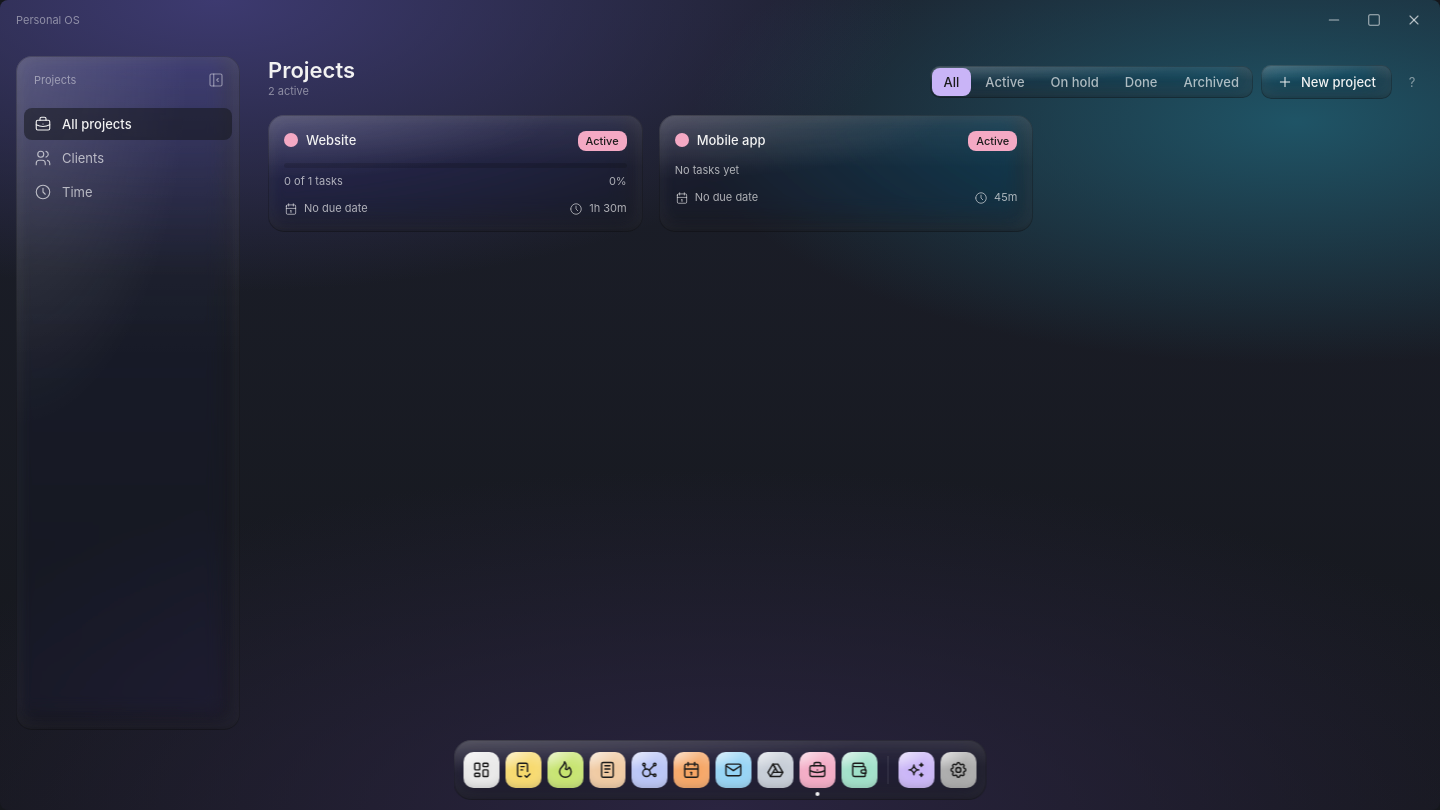
Time tab of a project › adds time by hand and rejects an end before the start
Click the button "Website" at [331, 140], box [306,131,570,150]
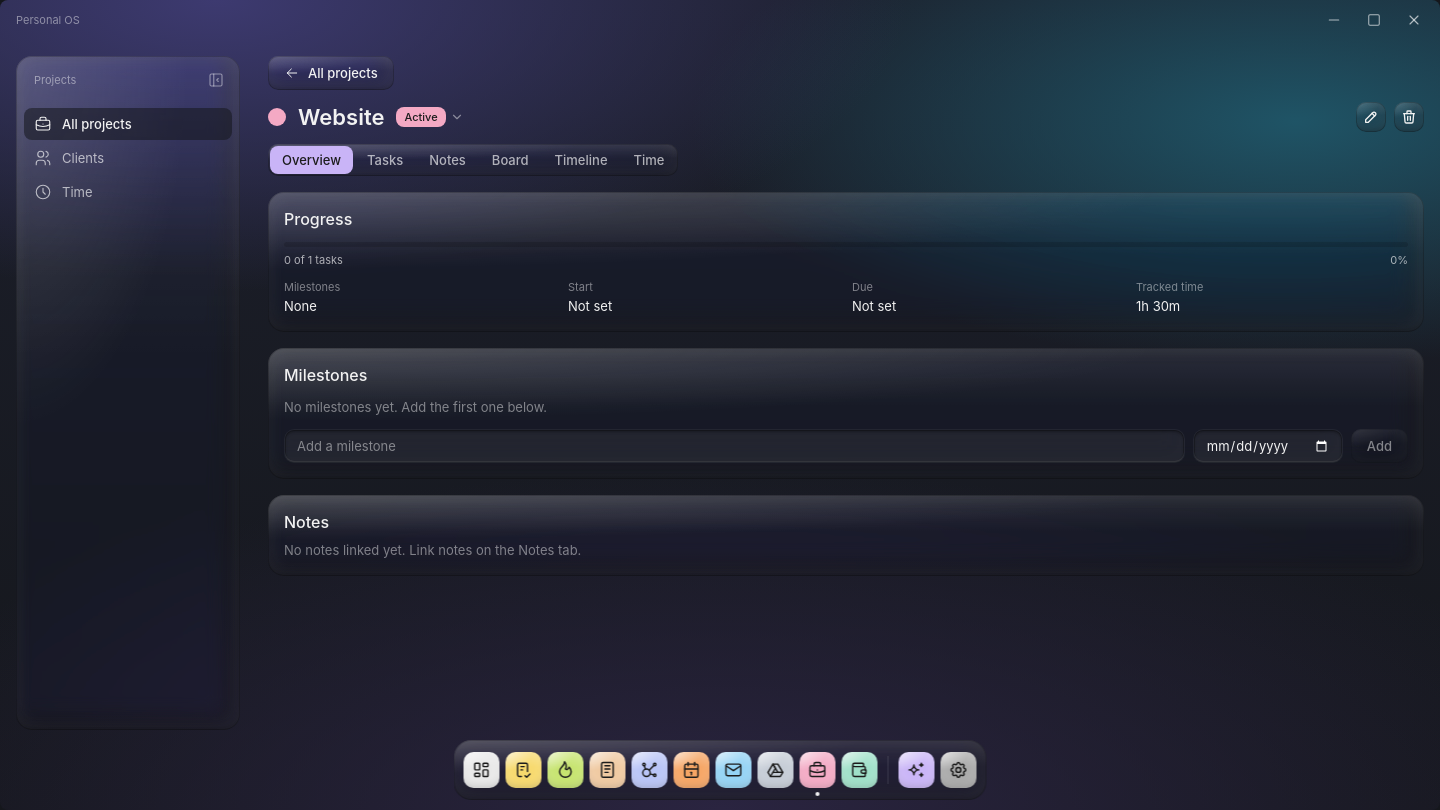
Expected: the heading "Website" is shown, [298,103,384,131]
Click the radio button labelled "Time" at [649, 160], box [622,146,676,174]
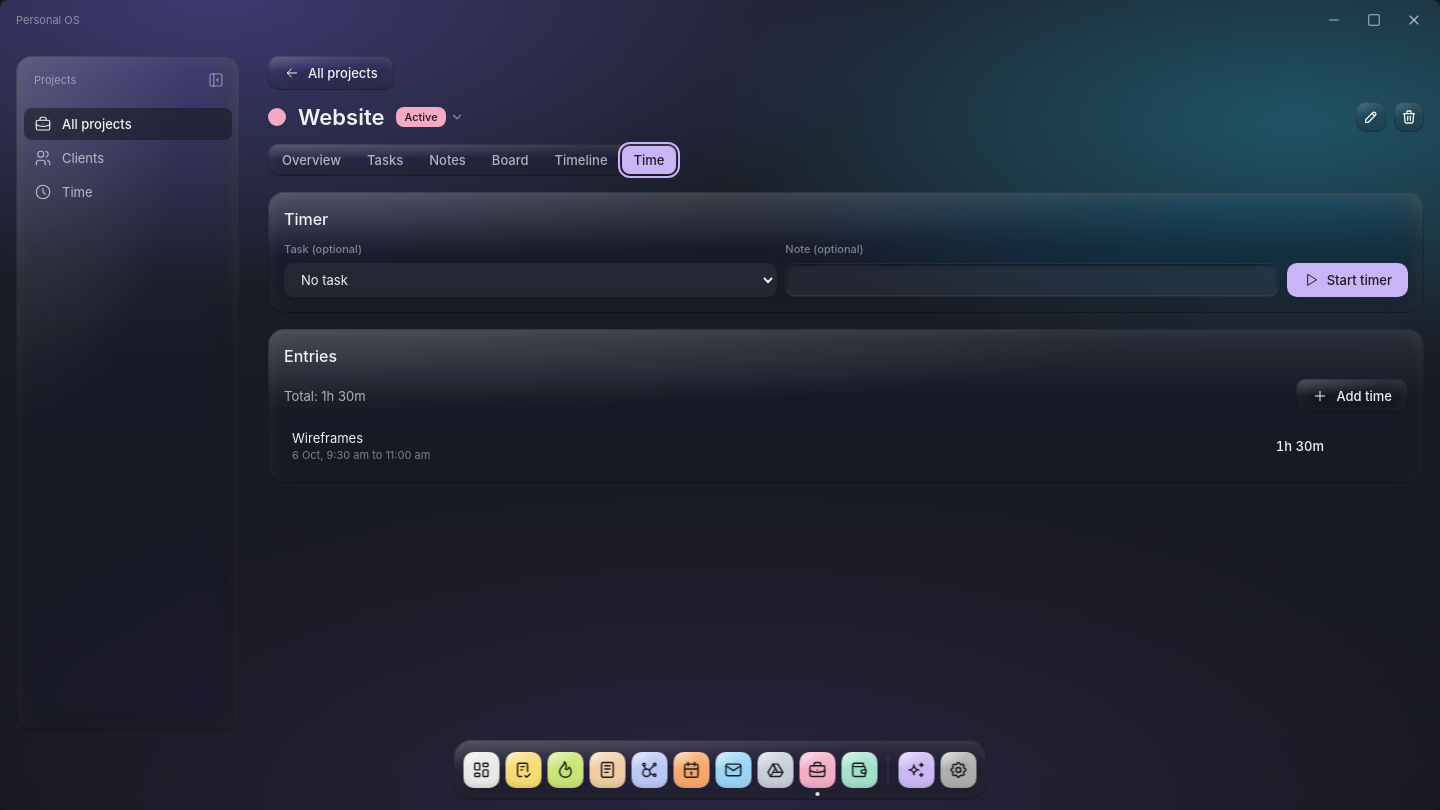
Click the button "Add time" at [1352, 396], box [1296,379,1408,413]
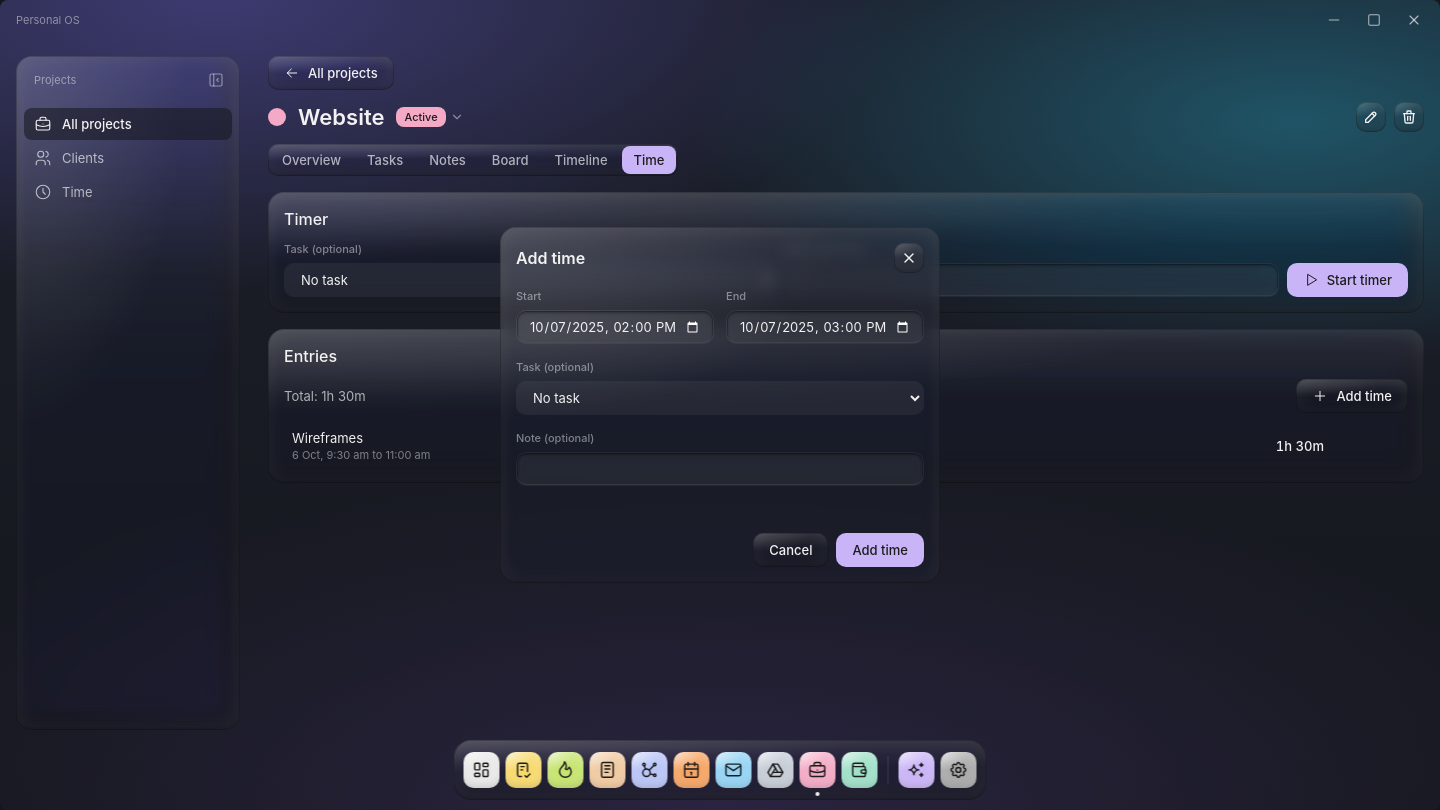
Replace the text in the field named "Start" with "2025-10-07T10:00" at [615, 327], box [516,310,714,344]
Replace the text in the field named "End" with "2025-10-07T09:00" at [825, 327], box [726,310,924,344]
Click the button "Add time" at [880, 550], box [836,533,924,567]
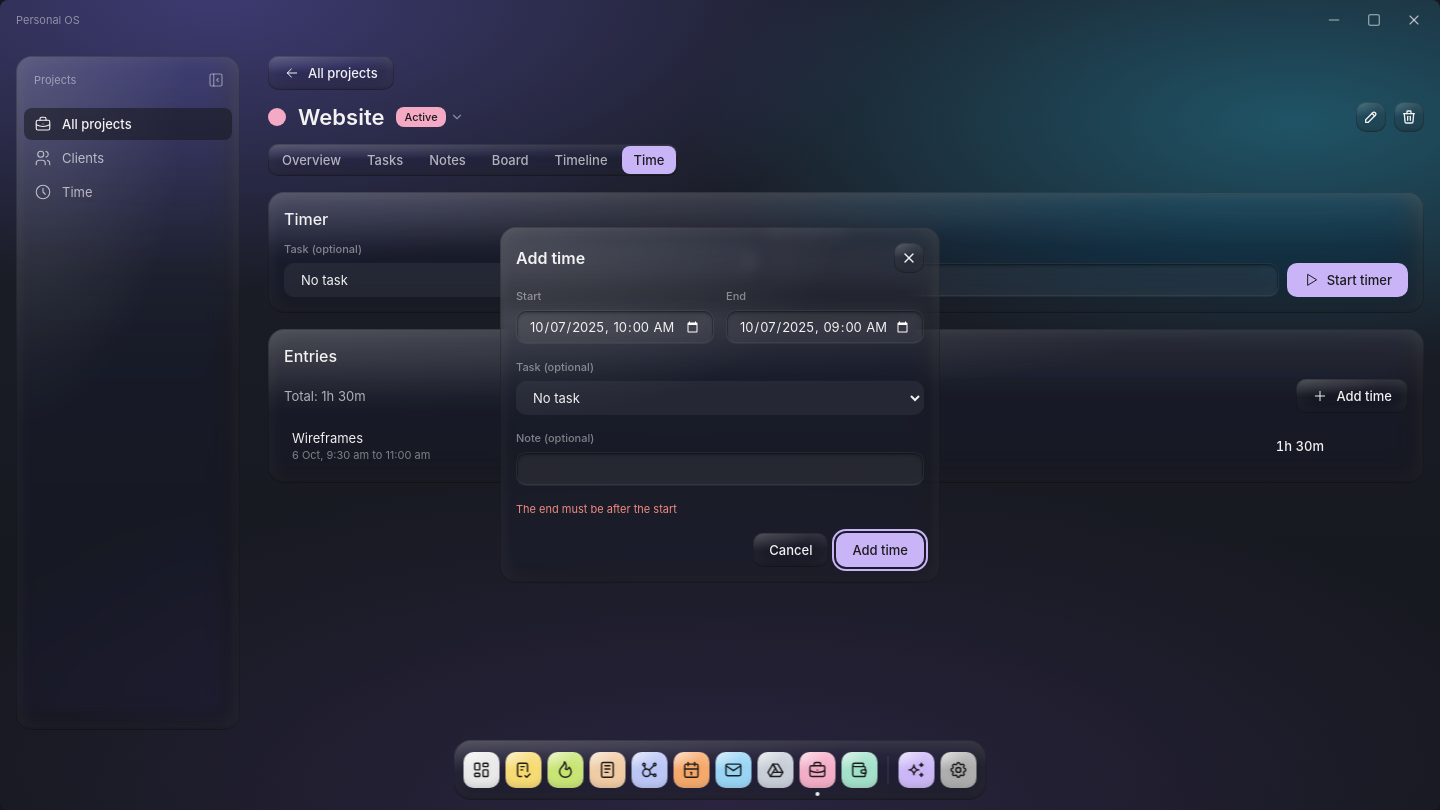
Result: the message reads "The end must be after the start" at [516,502,677,516]
Replace the text in the field named "End" with "2025-10-07T11:30" at [825, 327], box [726,310,924,344]
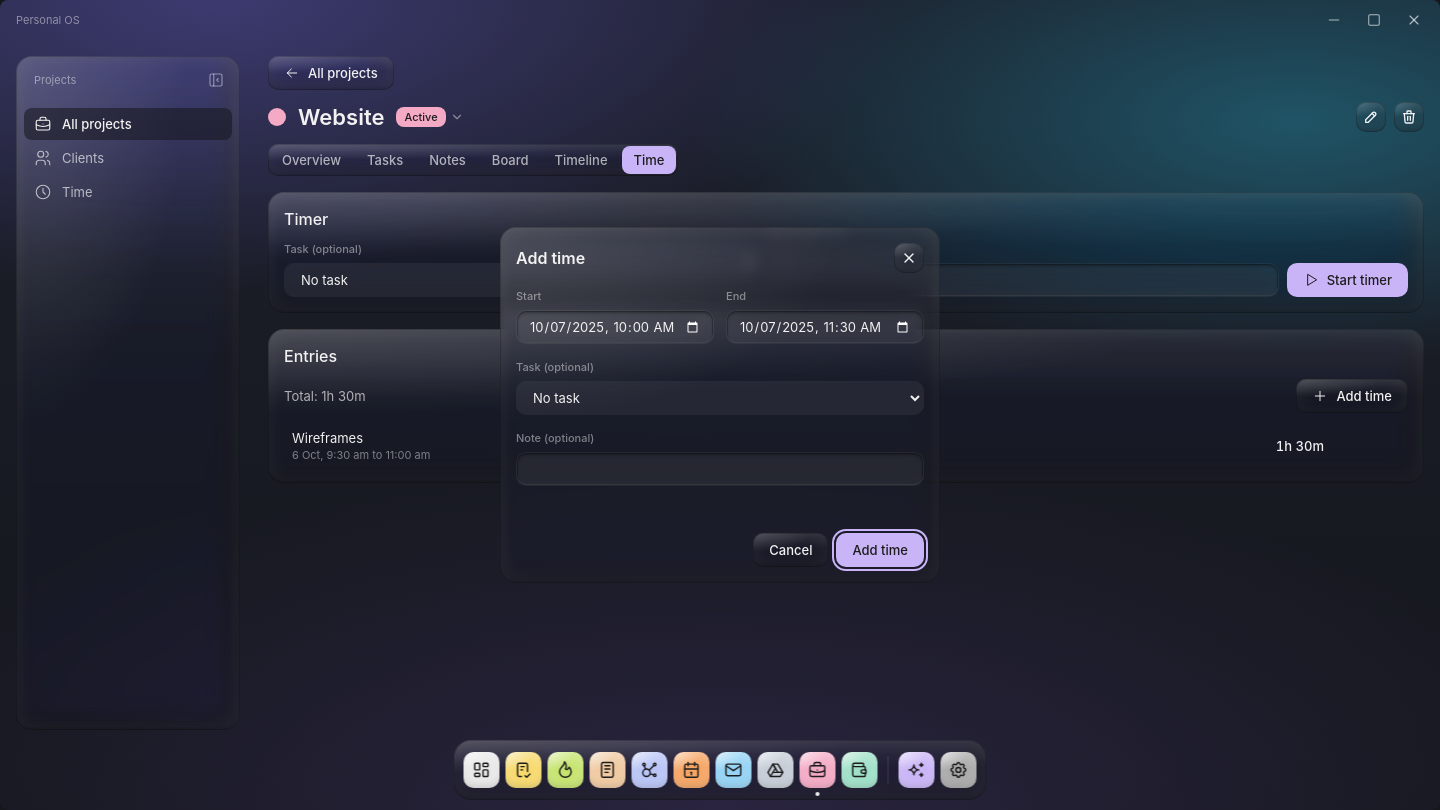
Click the button "Add time" at [880, 550], box [836,533,924,567]
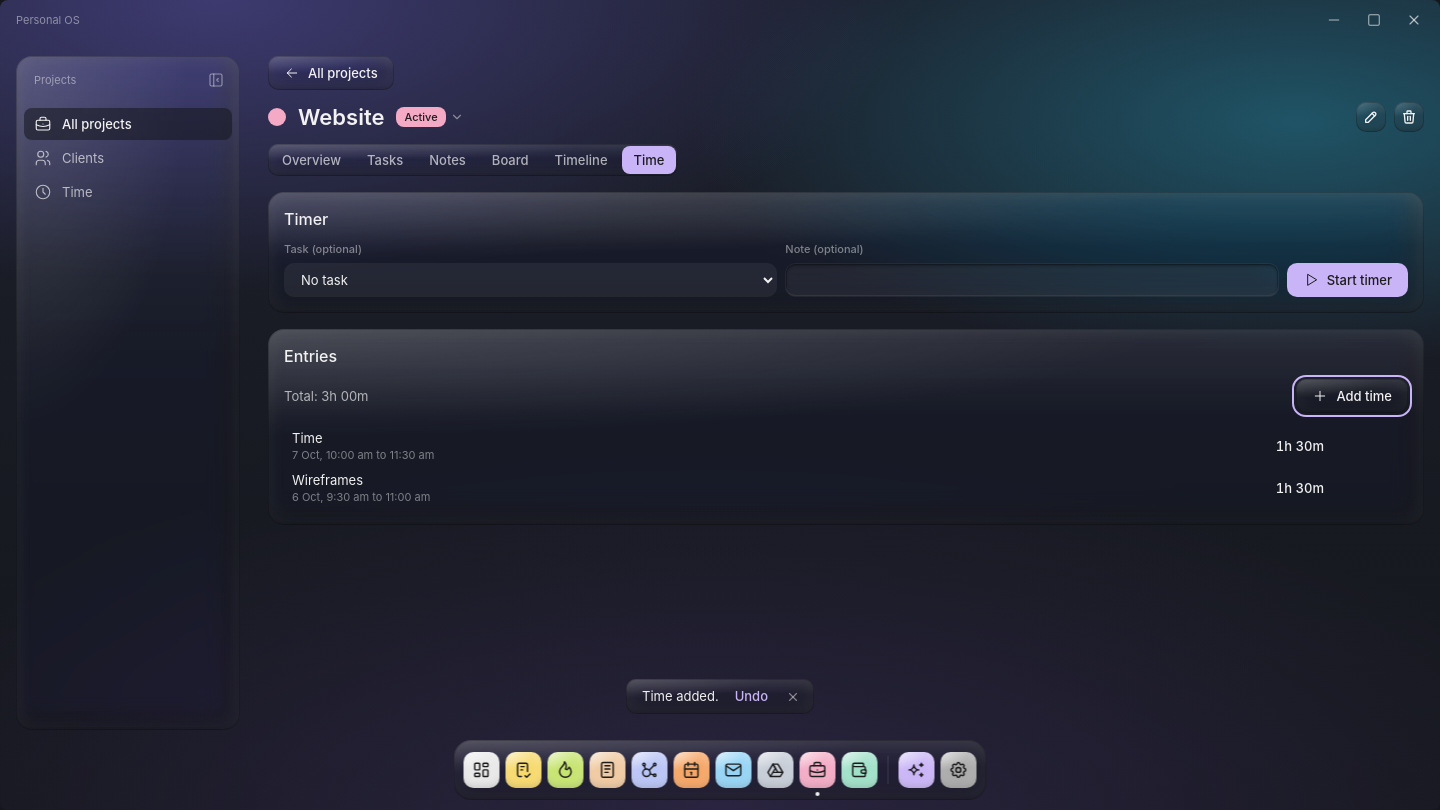
Result: the dialog is gone
Result: the text "Total: 3h 00m" is shown at [284,386,368,406]
